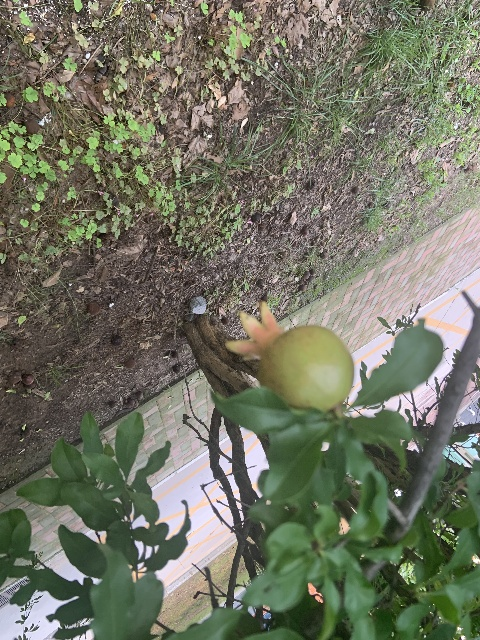mid-growth: (226, 300, 354, 412)
